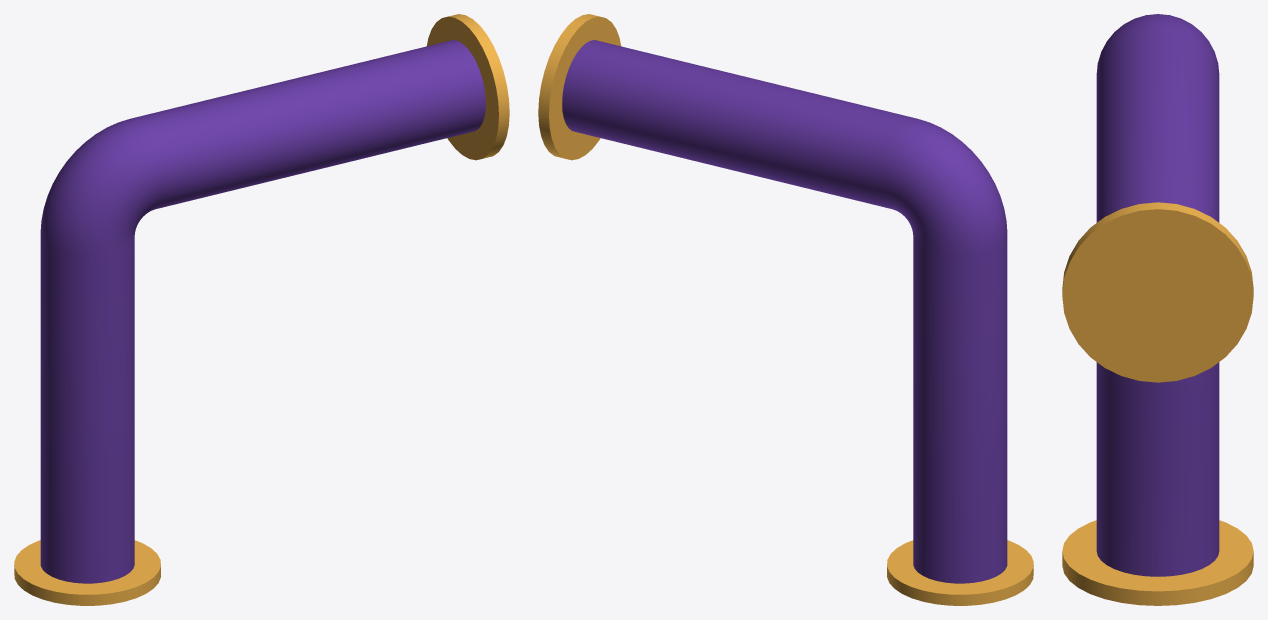
Rendered from pipe5.fbx.
3 views of the same model, side by side, from view 1: azimuth 30°, elevation 25°; view 2: azimuth 150°, elevation 25°; view 3: azimuth 270°, elevation 25° (orthographic). The views are drawn at different scales.
Visible parts, largest first — view 1: pipe5; view 2: pipe5; view 3: pipe5.
Boxes of the visible parts, <box> form: pipe5: <box>14,14,509,605</box>; pipe5: <box>538,14,1033,605</box>; pipe5: <box>1062,14,1253,605</box>.
Bounding box in the file's own units: 5.82 × 1.65 × 5.72.
Materials: 2 (1 with a texture image).
